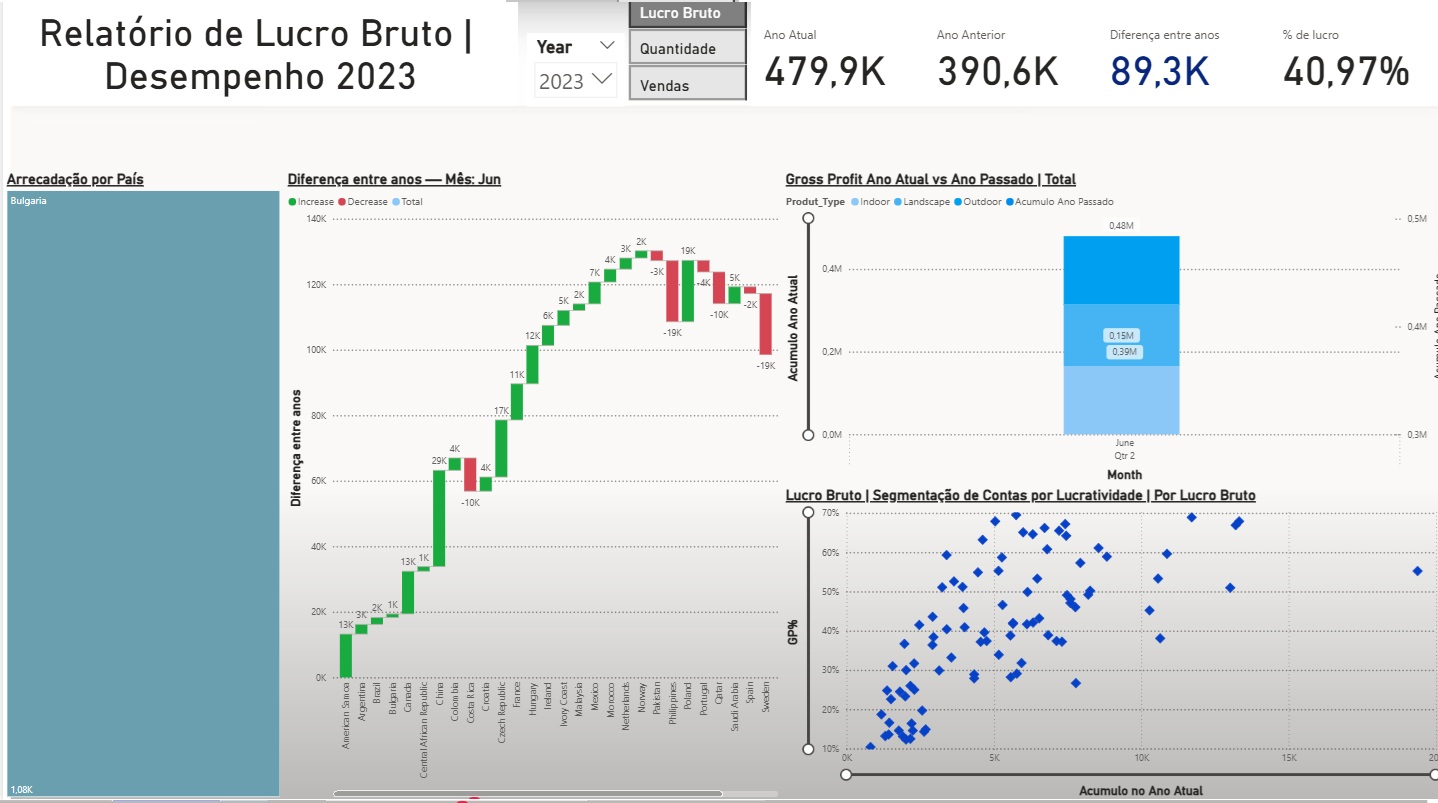

What the dashboard file says about the page in this screenshot:
{"tool":"powerbi","page":{"name":"Page 1","canvas":[1920,1080],"ordinal":0},"visuals":[{"type":"advancedSlicerVisual","fields":{"Values":["Slc_Values.Display"]},"box":[827.3,0,167.6,155.6],"z":0},{"type":"slicer","fields":{"Values":["Dim_Date.Date.Variation.Date Hierarchy.Year"]},"box":[697.4,58.4,129.8,97.8],"z":1000},{"type":"treemap","title":"Arrecadação por País","fields":{"Details":["Dim_account.country"],"Values":["_Measures.YTD_VS_PYTD"]},"box":[0,240.7,373.5,838.9],"z":2000},{"type":"waterfallChart","fields":{"Y":["_Measures.YTD_VS_PYTD"],"Category":["Dim_Date.Date.Variation.Date Hierarchy.Month","Dim_account.country","Dim_Product.Produt_Type","Dim_Product.Product_Name"]},"box":[373.7,240.7,662.4,839.3],"z":3000},{"type":"lineStackedColumnComboChart","fields":{"Y":["_Measures.Switch_YTD"],"Y2":["_Measures.Switch_PYTD"],"Category":["Dim_Date.Date.Variation.Date Hierarchy.Quarter","Dim_Date.Date.Variation.Date Hierarchy.Month"],"Series":["Dim_Product.Produt_Type"]},"box":[1036.1,240.7,884.5,419],"z":4000},{"type":"cardVisual","fields":{"Data":["_Measures.Switch_YTD","_Measures.Switch_PYTD","_Measures.YTD_VS_PYTD","_Measures.GP%"]},"box":[995,0,925,156.1],"z":5000},{"type":"scatterChart","fields":{"Y":["_Measures.GP%"],"Category":["Dim_account.Account"],"X":["_Measures.Switch_YTD"]},"box":[1036.1,661,884.5,419],"z":6000},{"type":"card","fields":{"Values":["_Measures._Título Dashboard"]},"box":[0,5.4,685.5,150],"z":6001}]}

Visuals, with their boxes on the page's 1920x1080 design canvas (x1, y1, x2, y2). These are canvas units, not pixel positions in the 1438x803 screenshot, which may show the page scaled, cropped or inside an application window:
advancedSlicerVisual - Slc_Values.Display: <box>827,0,995,156</box>
slicer - Dim_Date.Date.Variation.Date Hierarchy.Year: <box>697,58,827,156</box>
"Arrecadação por País" treemap: <box>0,241,374,1080</box>
waterfallChart - _Measures.YTD_VS_PYTD x Dim_Date.Date.Variation.Date Hierarchy.Month: <box>374,241,1036,1080</box>
lineStackedColumnComboChart - _Measures.Switch_YTD x _Measures.Switch_PYTD: <box>1036,241,1921,660</box>
cardVisual - _Measures.Switch_YTD x _Measures.Switch_PYTD: <box>995,0,1920,156</box>
scatterChart - _Measures.GP% x Dim_account.Account: <box>1036,661,1921,1080</box>
card - _Measures._Título Dashboard: <box>0,5,686,155</box>
